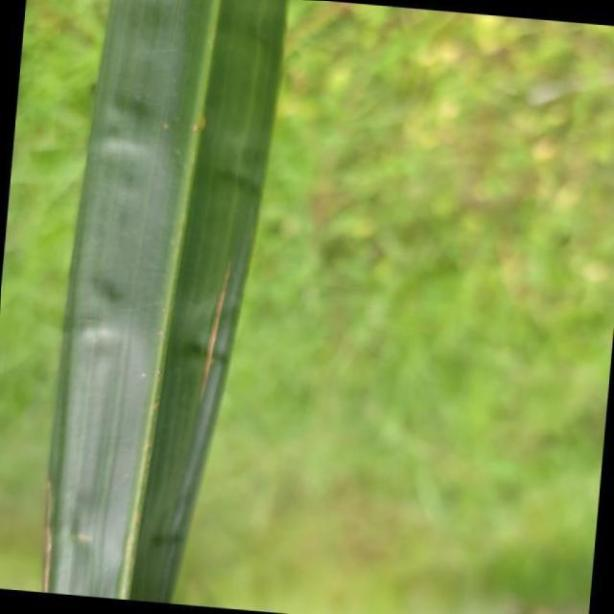Boron: (49, 0, 289, 605)
